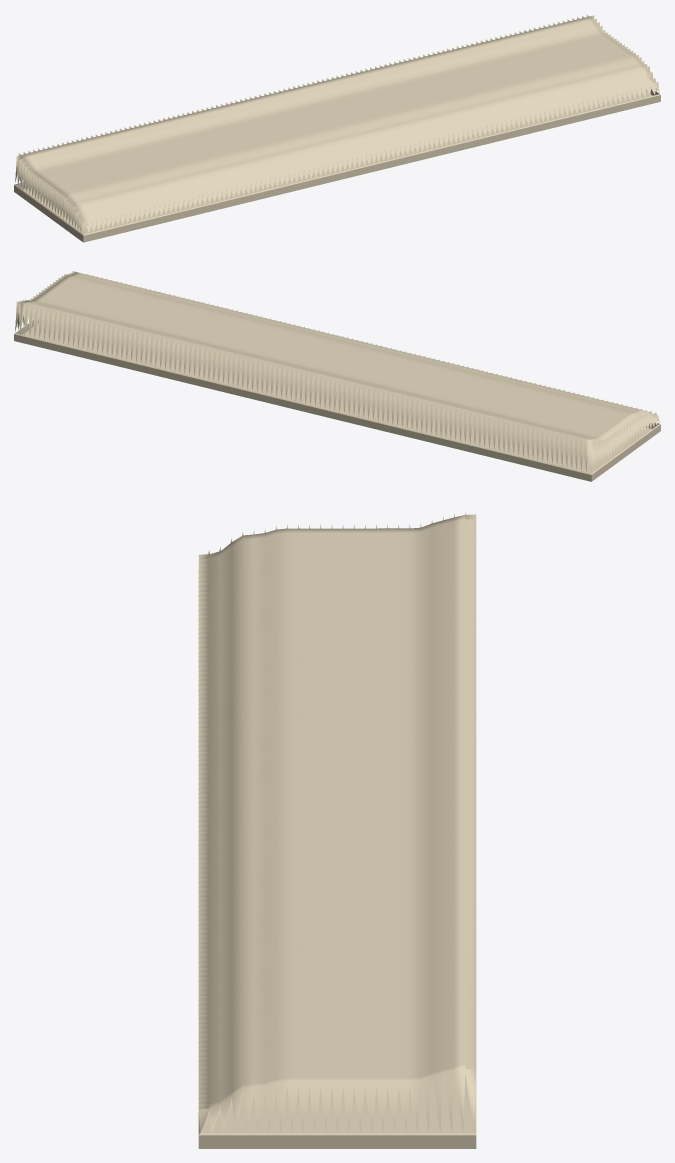
The model's file is mahsulot.glb.
3 views of the same model, one above another, from view 1: azimuth 30°, elevation 25°; view 2: azimuth 150°, elevation 25°; view 3: azimuth 270°, elevation 25° (orthographic). The views are drawn at different scales.
Visible parts, largest first — view 1: mahsulot; view 2: mahsulot; view 3: mahsulot.
Part boxes in pixels (x1,y1,x2,y2): mahsulot: (14,14,660,242); mahsulot: (14,271,660,481); mahsulot: (198,511,476,1148).
Bounding box in the file's own units: 1.2 × 0.075 × 0.25.
